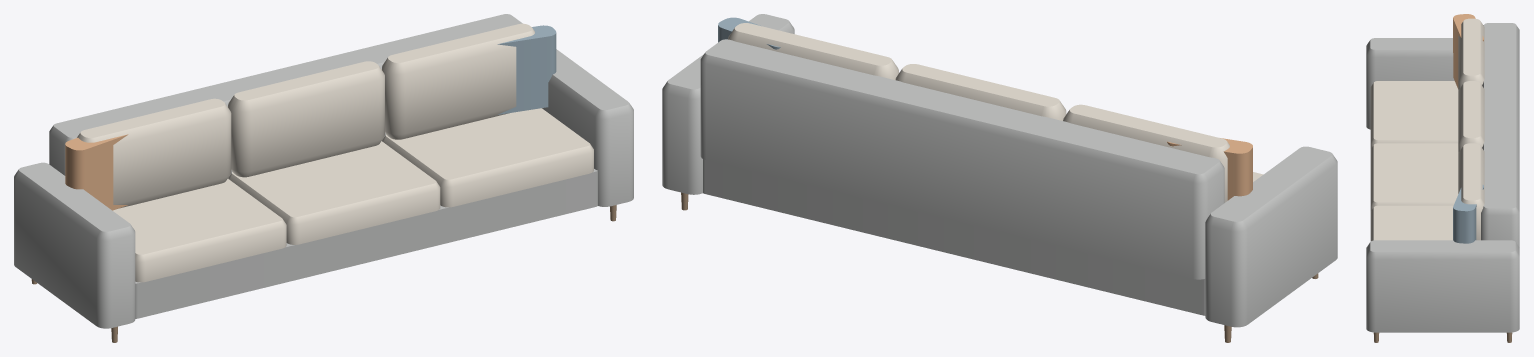
3 renders of one model, left to right at view 1: azimuth 30°, elevation 25°; view 2: azimuth 150°, elevation 25°; view 3: azimuth 270°, elevation 25°, orthographic. The views are drawn at different scales.
Parts seen in each view (by area): view 1: Sofa văng Chiều dài=3000; view 2: Sofa văng Chiều dài=3000; view 3: Sofa văng Chiều dài=3000.
Boxes of the visible parts, x1=… form: Sofa văng Chiều dài=3000: x1=14, y1=14, x2=633, y2=342; Sofa văng Chiều dài=3000: x1=662, y1=14, x2=1337, y2=342; Sofa văng Chiều dài=3000: x1=1366, y1=14, x2=1519, y2=342.
Size of the model in its own units: 3.02 by 0.85 by 0.9.
